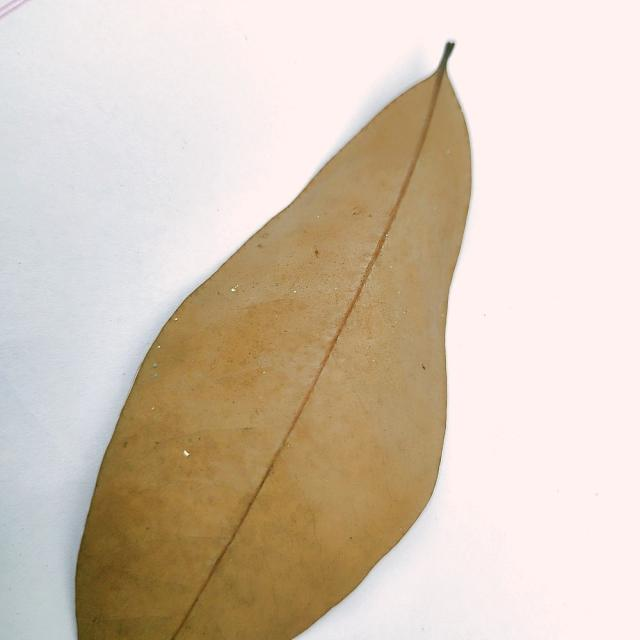Dry_Leaf-Lychee: (75, 45, 474, 639)
